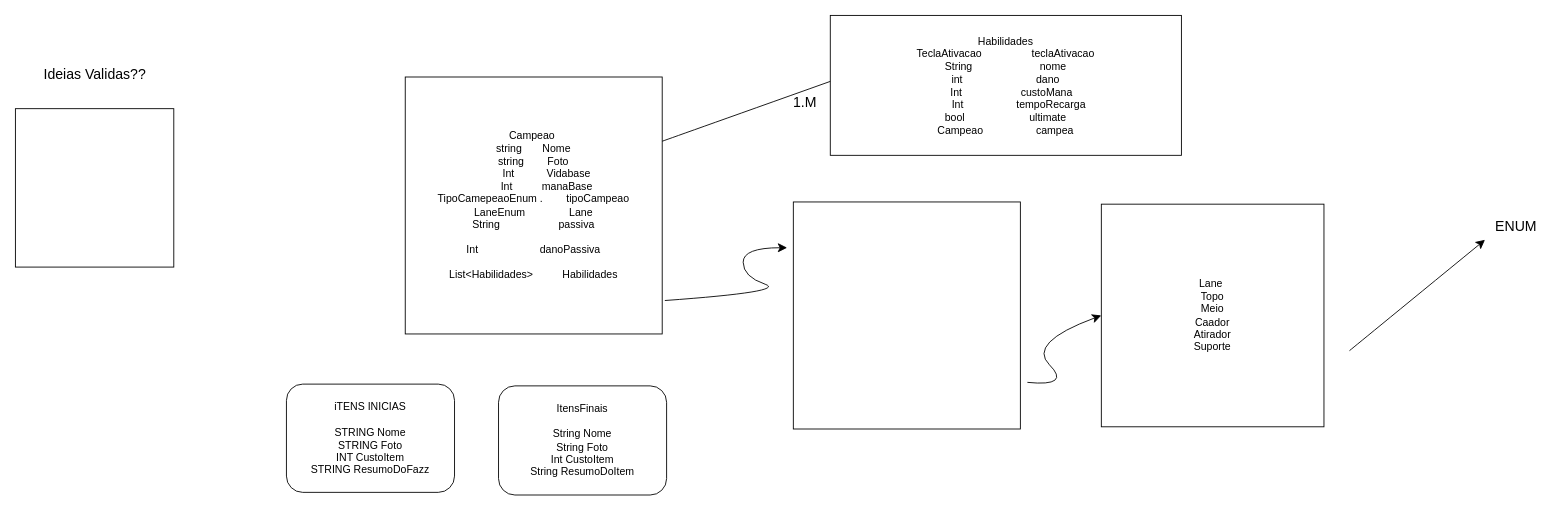
Image size: 1559x510. Some labels were removed from this diagram. Here are the shapes that lost their labels. From the top down, the box of each, then its label:
(15, 108, 174, 267): Como Jogar? Um resumo curto de como jogar com certo campeao
(792, 201, 1020, 429): TipoCampeao Tanque Caçador Mago Suporte Atirador
